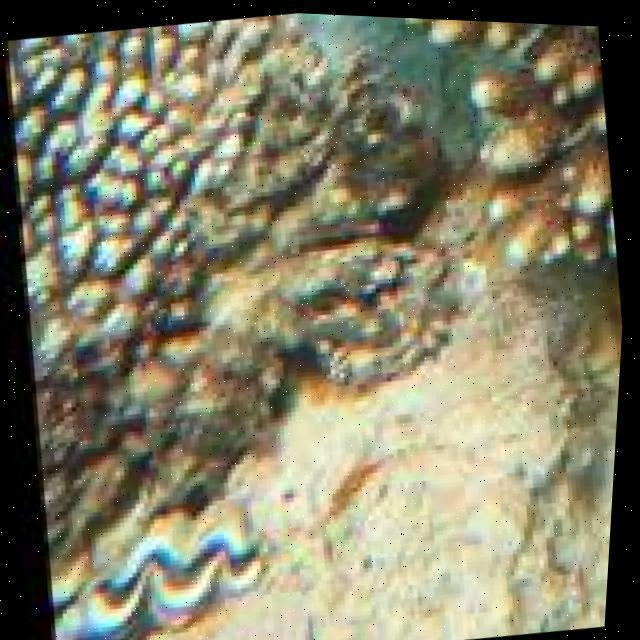Bleached Coral: (18, 0, 242, 377)
Healthy Coral: (444, 0, 610, 274)
